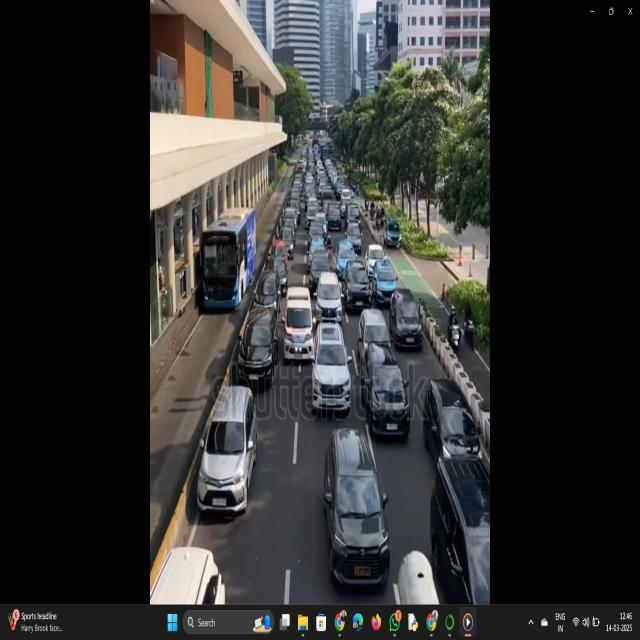Ambulance: (283, 280, 314, 364)
